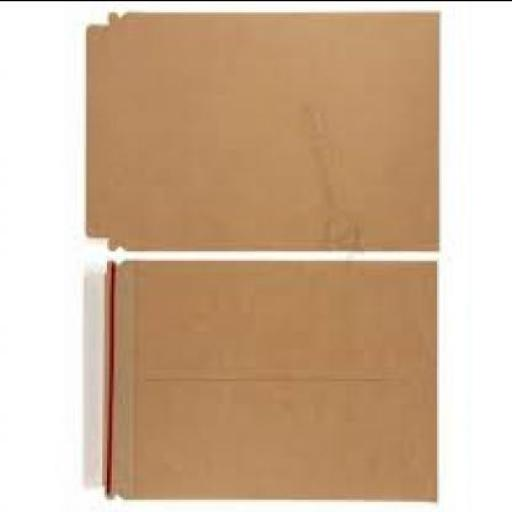cardboard: (82, 11, 439, 255), (78, 262, 434, 502)
